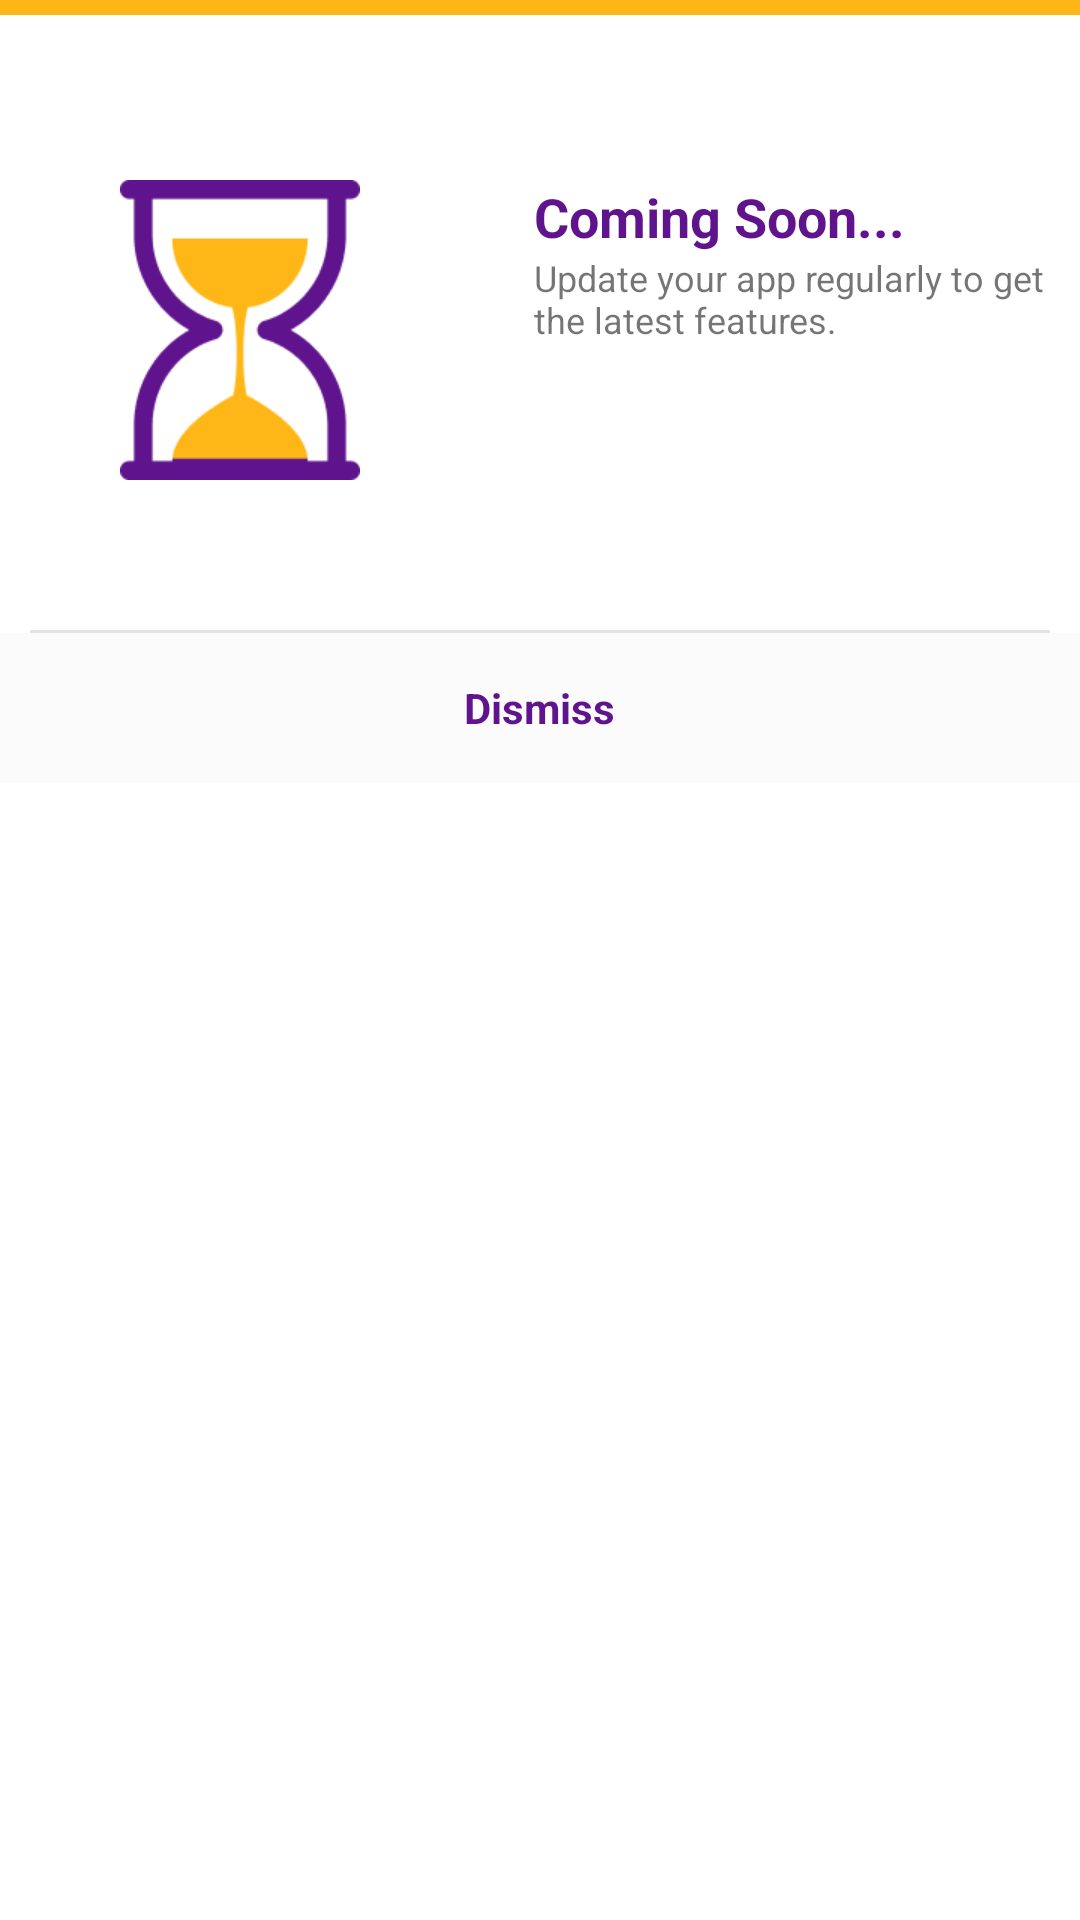

Icons on this 1080px x 1920px Android screen, each with its box as (x1, y1, x2, y2):
hour glass: (120, 180, 360, 480)
